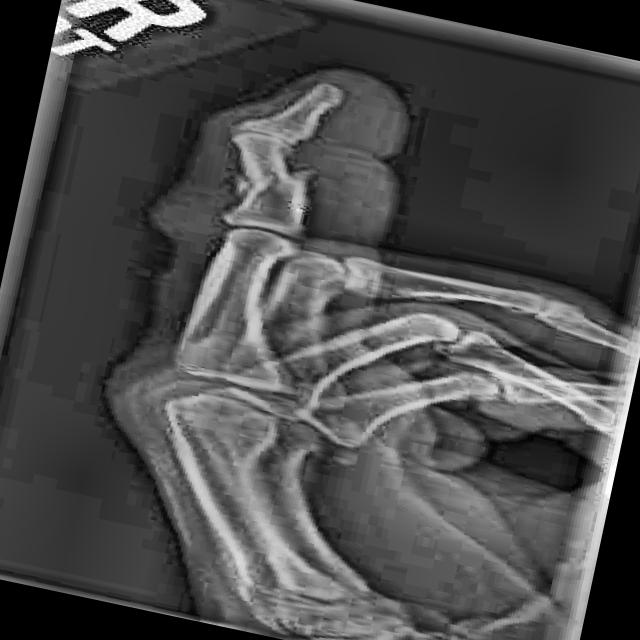fingers positive: (194, 152, 346, 221)
